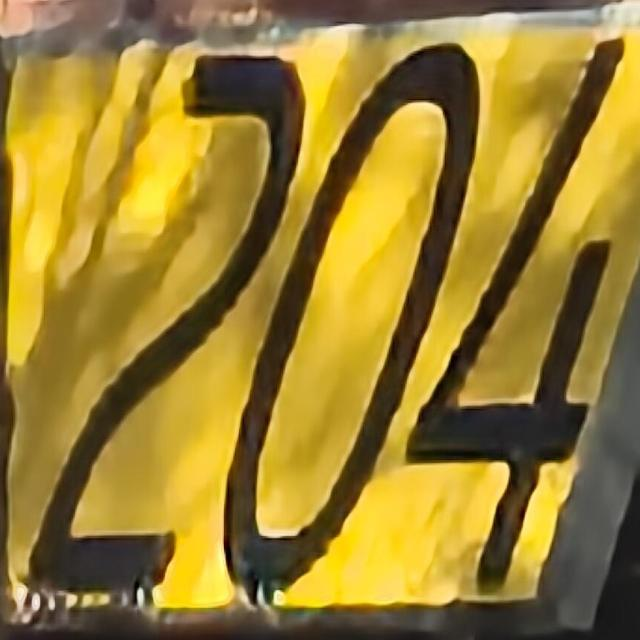character: (19, 43, 310, 601), (218, 32, 487, 604), (401, 30, 631, 600)
